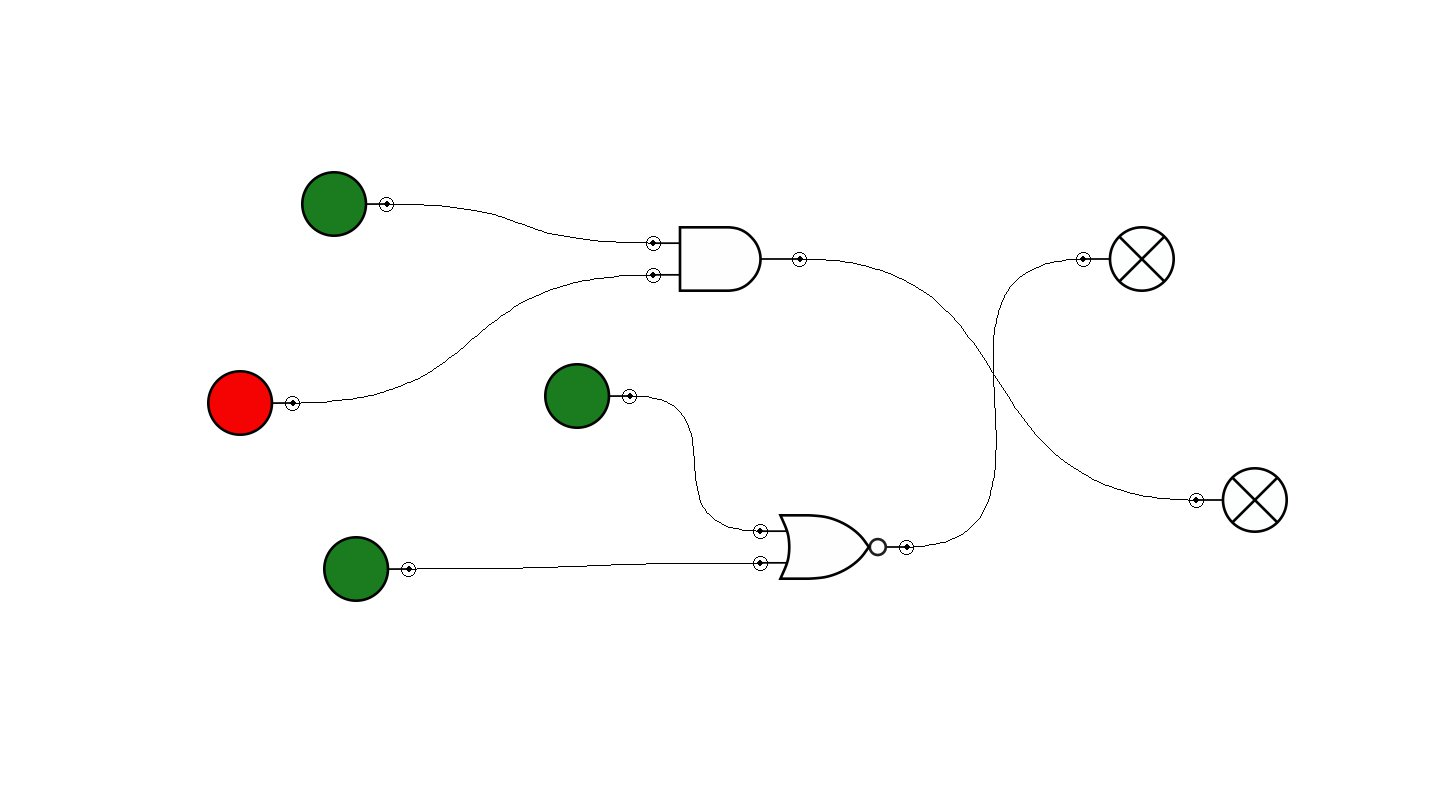and: (646, 226, 807, 292)
bulb: (1189, 467, 1288, 533), (1076, 226, 1175, 292)
nor: (753, 514, 914, 580)
switch_False: (207, 370, 300, 436)
switch_True: (544, 363, 637, 429), (323, 536, 416, 602), (301, 171, 394, 237)
